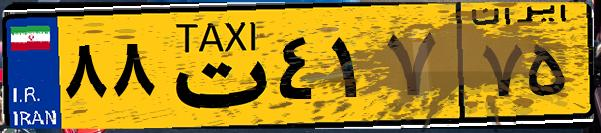1: (330, 28, 385, 110)
4: (270, 28, 330, 110)
5: (525, 38, 570, 115)
7: (385, 28, 445, 110), (475, 38, 525, 113)
8: (57, 26, 110, 100), (110, 28, 158, 98)
ت: (158, 12, 270, 120)
